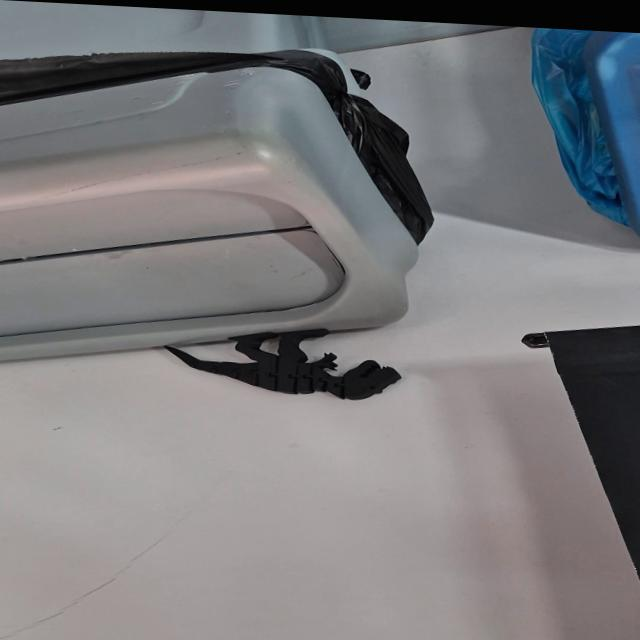dino: (162, 319, 402, 404)
